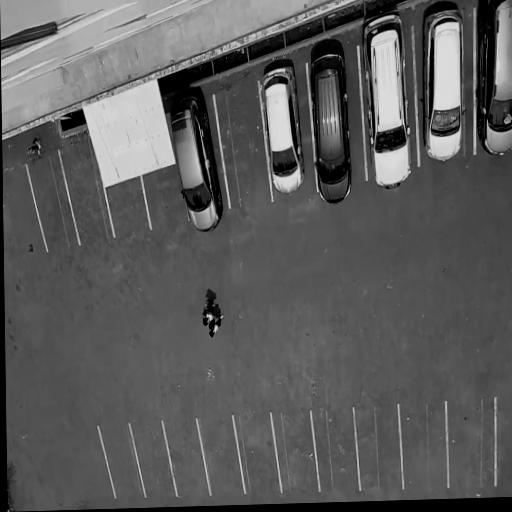Car: (355, 2, 415, 193), (166, 85, 229, 237), (306, 40, 354, 207), (422, 5, 465, 167), (259, 53, 305, 200), (478, 0, 512, 161)
Space Available: (215, 83, 273, 208), (59, 143, 114, 244), (25, 152, 79, 254), (446, 400, 495, 486), (354, 404, 403, 489), (399, 403, 448, 488), (233, 414, 282, 494), (311, 409, 359, 490), (271, 412, 319, 491), (129, 420, 177, 498), (163, 416, 210, 495), (197, 416, 244, 494), (99, 423, 145, 498), (141, 164, 187, 229), (106, 178, 150, 236), (495, 397, 512, 484)
